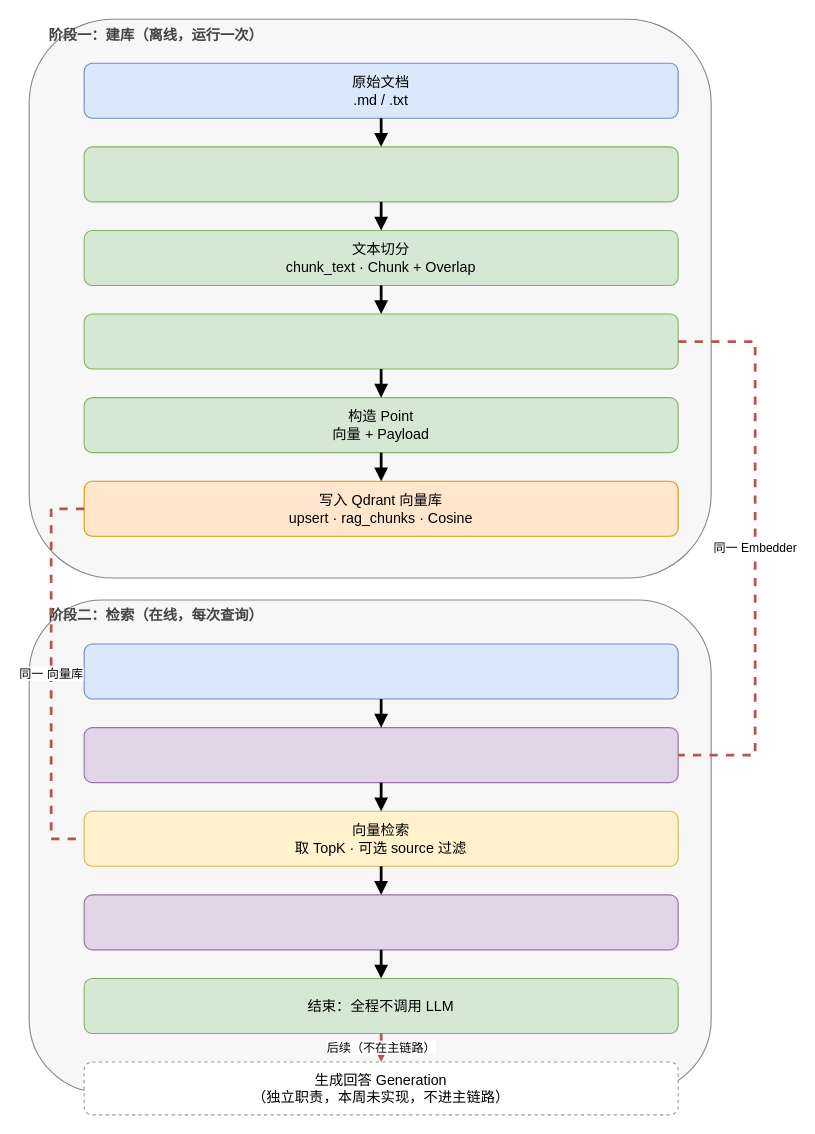
The diagram is 815 pixels wide and 1134 high, and some of its shapes have lost their labels. The shapes that lost their labels are listed below. From the top down, each one's centre as x and y in pixels, then its label:
At (x=380, y=174): "文档解析 load_documents".
At (x=380, y=341): "逐片段 Embedding （同一 Embedder）".
At (x=380, y=671): "用户查询 query".
At (x=380, y=755): "查询 Embedding （同一 Embedder）".
At (x=380, y=922): "返回 RetrievalResult chunk_id / source / score / text".
